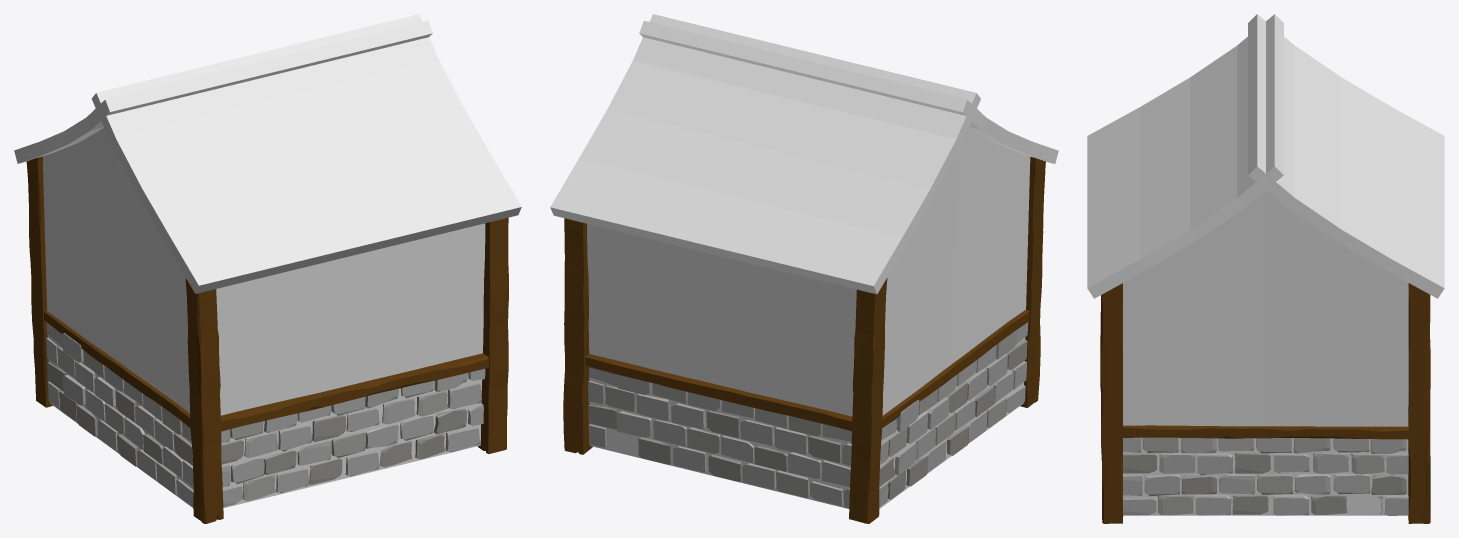
Rendered from BPW2_BackgroundHome2fbx.fbx.
3 views of the same model, side by side, from view 1: azimuth 30°, elevation 25°; view 2: azimuth 150°, elevation 25°; view 3: azimuth 270°, elevation 25° (orthographic). The views are drawn at different scales.
Visible parts, largest first — view 1: Plane.001, Cube.001, Bricks2.007, Pillar4.018, Pillar4.001; view 2: Plane.001, Cube.001, Bricks2.007, Pillar4.018, Pillar4.001; view 3: Plane.001, Cube.001, Bricks2.007, Pillar4.018, Pillar4.001.
Part boxes in pixels (bbox=[...]): Plane.001: bbox=[14, 14, 521, 293]; Cube.001: bbox=[43, 128, 485, 508]; Bricks2.007: bbox=[46, 322, 485, 506]; Pillar4.018: bbox=[26, 156, 508, 523]; Pillar4.001: bbox=[44, 311, 488, 431]; Plane.001: bbox=[550, 14, 1058, 294]; Cube.001: bbox=[587, 128, 1030, 508]; Bricks2.007: bbox=[588, 322, 1028, 508]; Pillar4.018: bbox=[563, 157, 1045, 523]; Pillar4.001: bbox=[585, 309, 1029, 431]; Plane.001: bbox=[1087, 14, 1444, 298]; Cube.001: bbox=[1123, 190, 1408, 515]; Bricks2.007: bbox=[1123, 437, 1408, 515]; Pillar4.018: bbox=[1100, 283, 1430, 523]; Pillar4.001: bbox=[1123, 425, 1408, 439].
Bounding box in the file's own units: 439 × 473 × 427.
